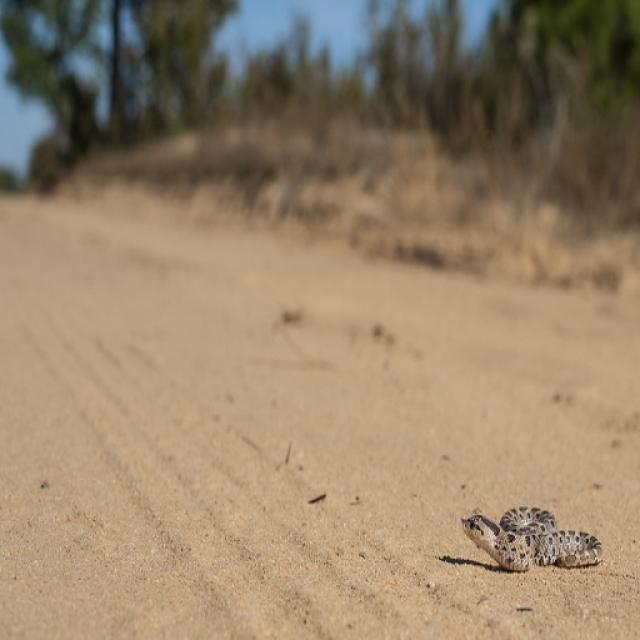snake: (450, 493, 613, 590)
